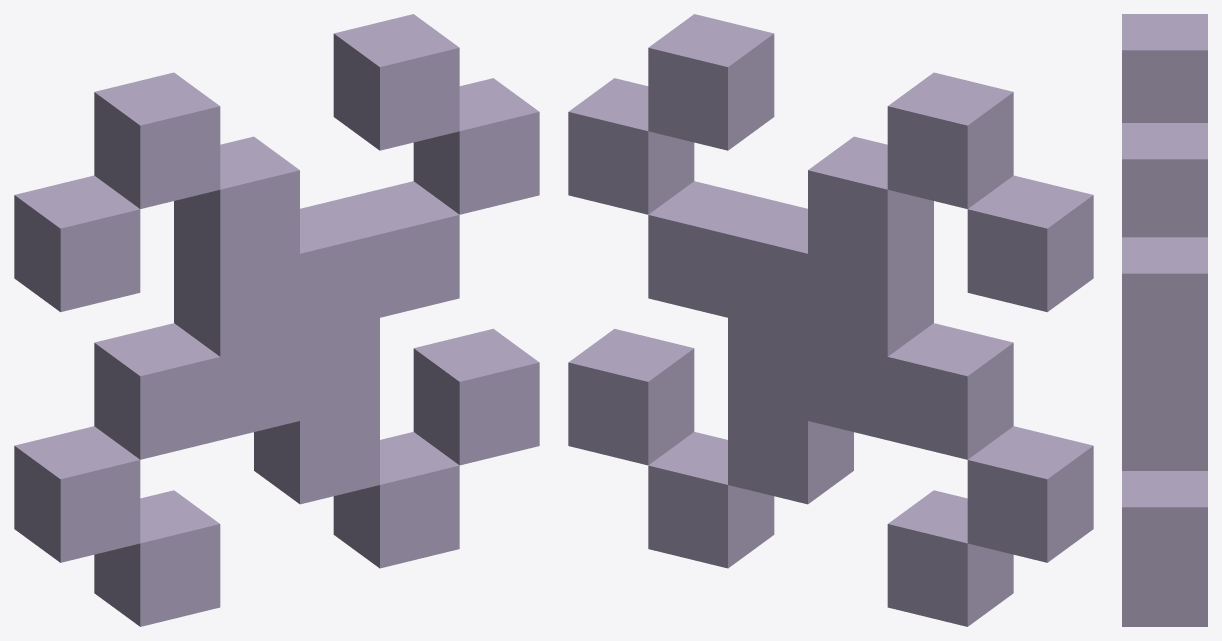
The model's file is Fireball-Small-Grey.vox.obj.
3 renders of one model, left to right at view 1: azimuth 30°, elevation 25°; view 2: azimuth 150°, elevation 25°; view 3: azimuth 270°, elevation 25°, orthographic. The views are drawn at different scales.
Size of the model in its own units: 0.6 by 0.6 by 0.1.
Materials: 1 (1 with a texture image).
